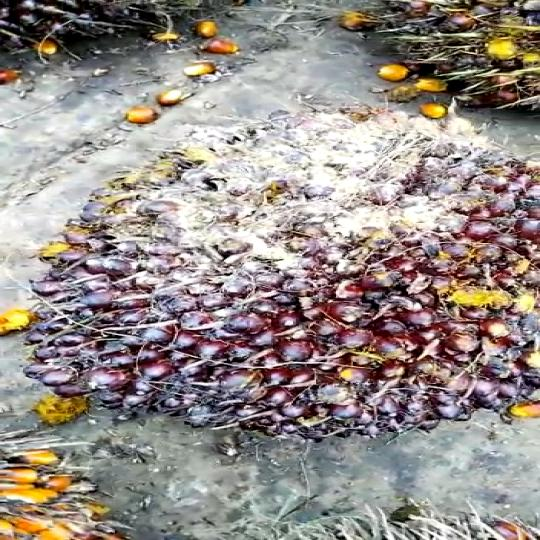kurang masak: (20, 114, 540, 454)
